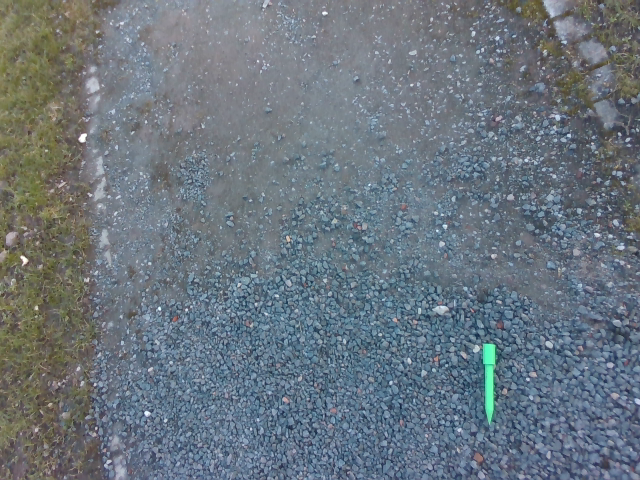Probe: (477, 338, 498, 428)
